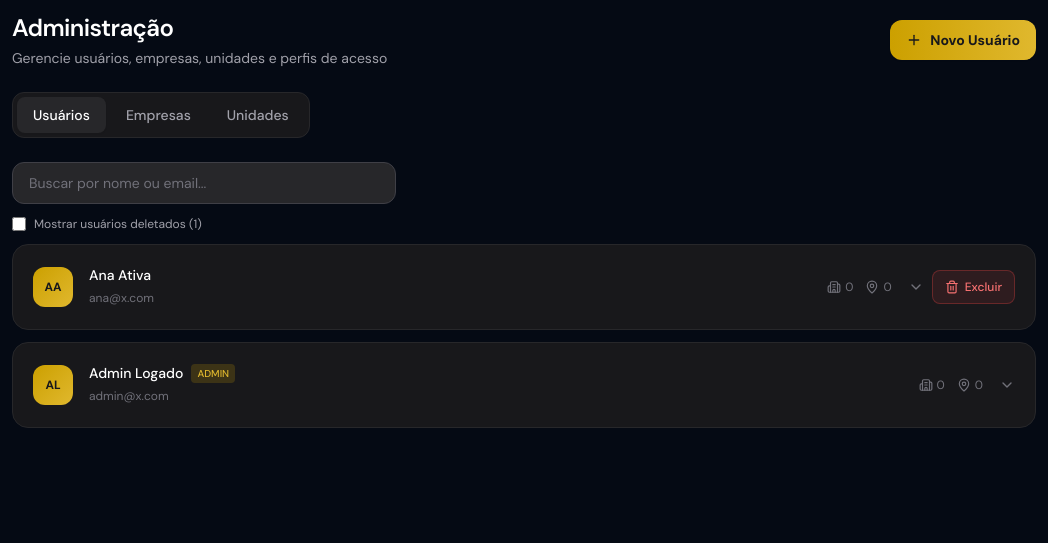
Test case: AdminPage portal — lifecycle de usuarios › falha no restore mostra toast de erro com prefixo e libera o botao
Expected: the text "Ana Ativa" is shown, [89, 265, 151, 285]
Click the checkbox labelled "Mostrar usuários deletados (1)" at (19, 224), box [12, 217, 26, 231]
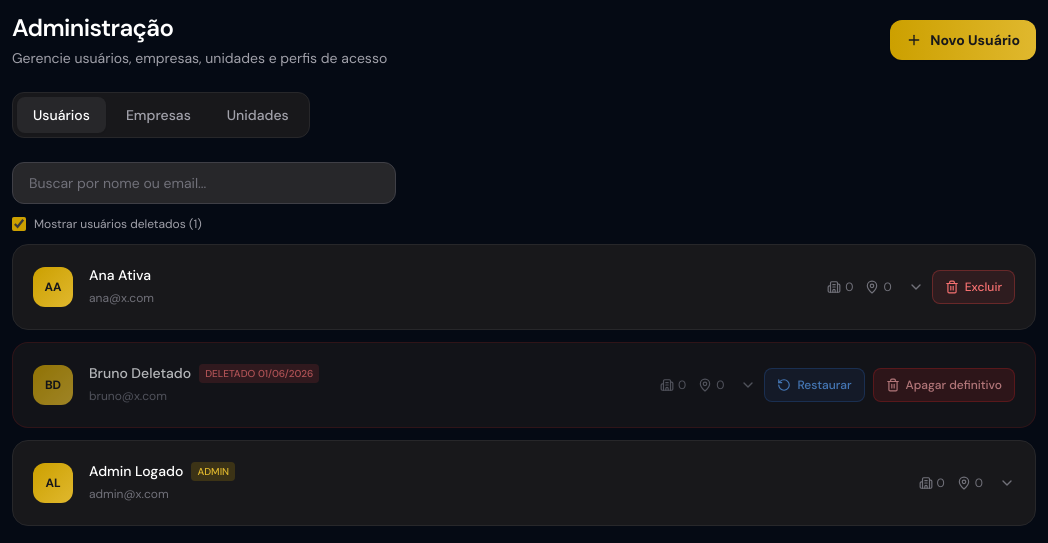
Click the button with aria-label "Restaurar Bruno Deletado" at (814, 385), box [764, 368, 865, 402]
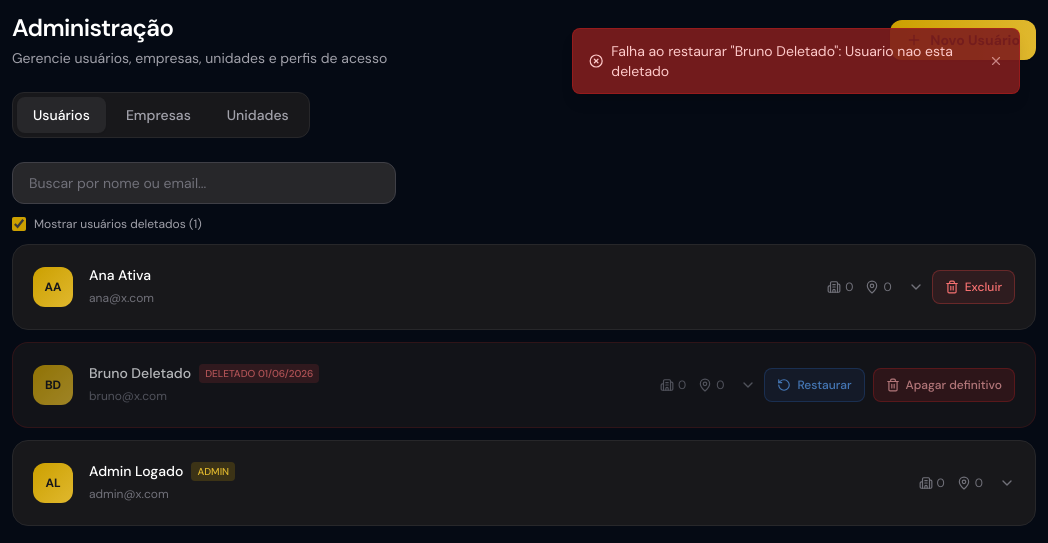
Expected: the button with aria-label "Restaurar Bruno Deletado" is enabled, [764, 368, 865, 402]
Expected: the text "Falha ao restaurar \"Bruno Deletado\": Usuario nao esta deletado" is shown, [572, 28, 1020, 94]
